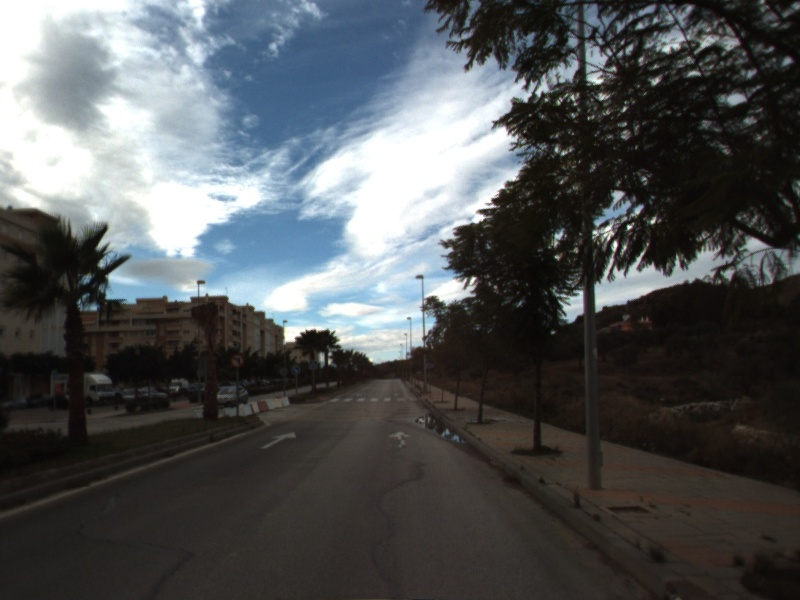STRAIGHT: (259, 430, 299, 450), (387, 428, 414, 450)
